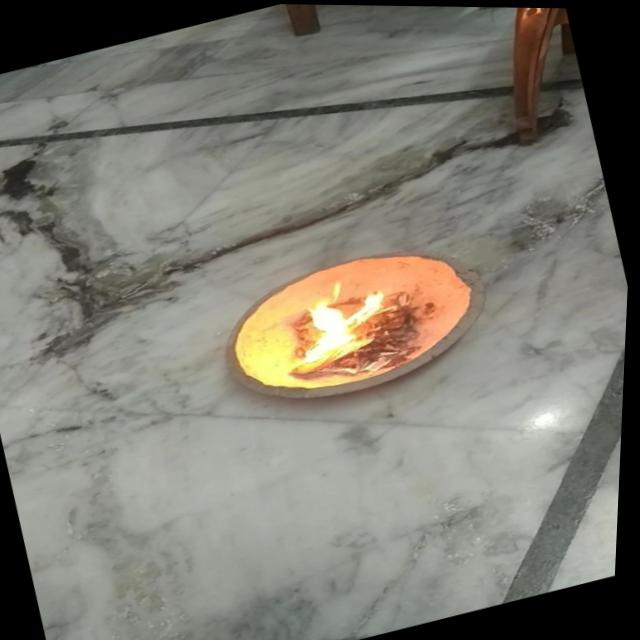fire: (293, 276, 412, 373)
